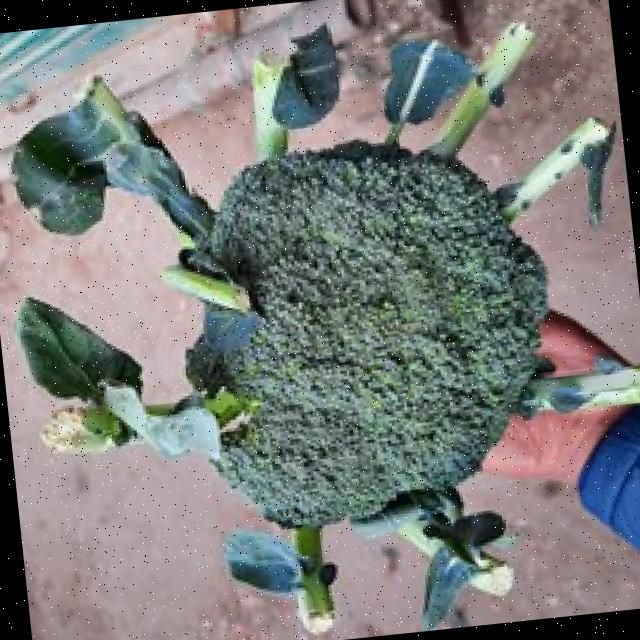Broccoli: (186, 141, 546, 525), (186, 141, 543, 526)
